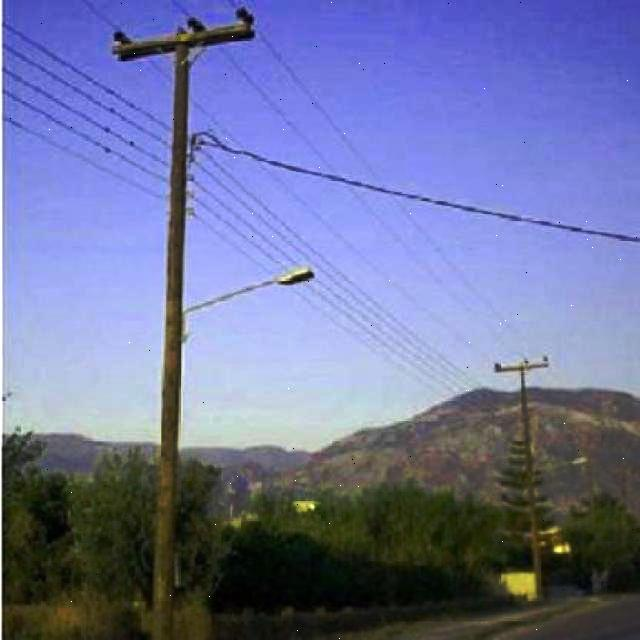poles: (112, 8, 254, 640), (494, 355, 548, 600)
wires: (201, 33, 639, 349), (193, 174, 514, 438), (0, 33, 169, 206)
